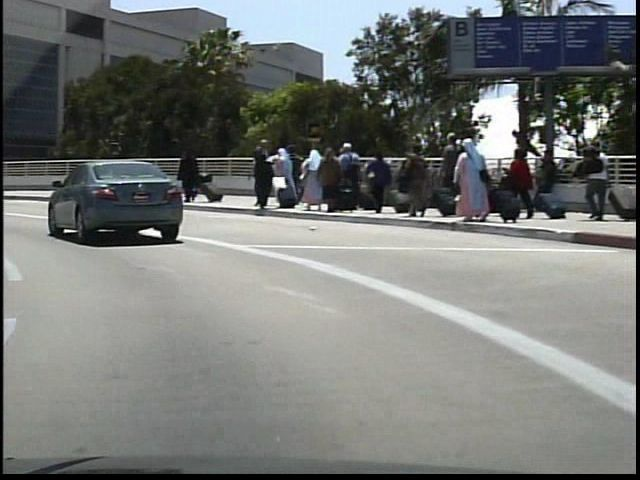person: (571, 137, 607, 224), (245, 136, 272, 212), (174, 146, 202, 213), (245, 145, 269, 211), (184, 153, 203, 197)
